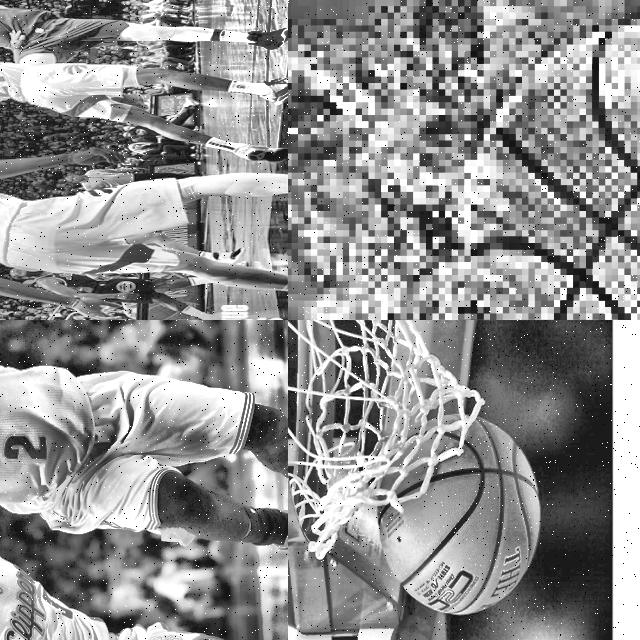Basketball: (377, 417, 539, 615)
